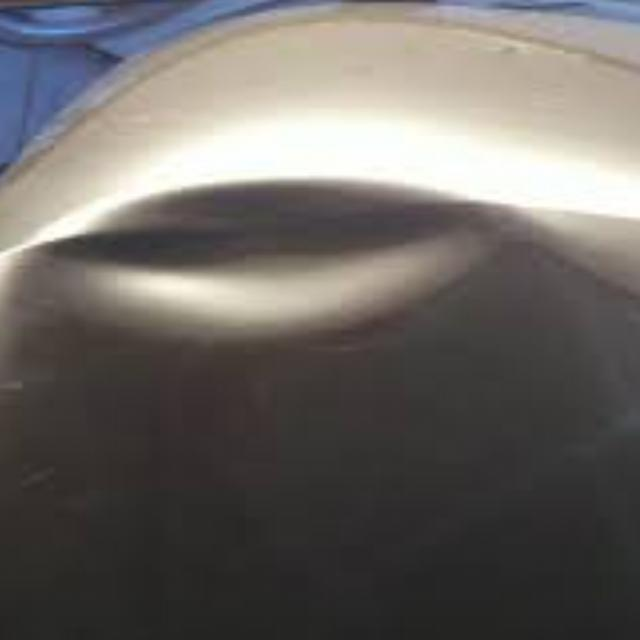dents: (32, 175, 526, 342)
